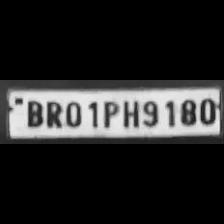0: (196, 96, 218, 124), (62, 99, 82, 129)
1: (83, 99, 101, 129), (160, 97, 178, 127)
8: (177, 96, 197, 126)
9: (140, 98, 160, 127)
B: (21, 98, 43, 128)
H: (119, 97, 139, 128)
P: (98, 97, 119, 128)
R: (42, 99, 62, 129)
